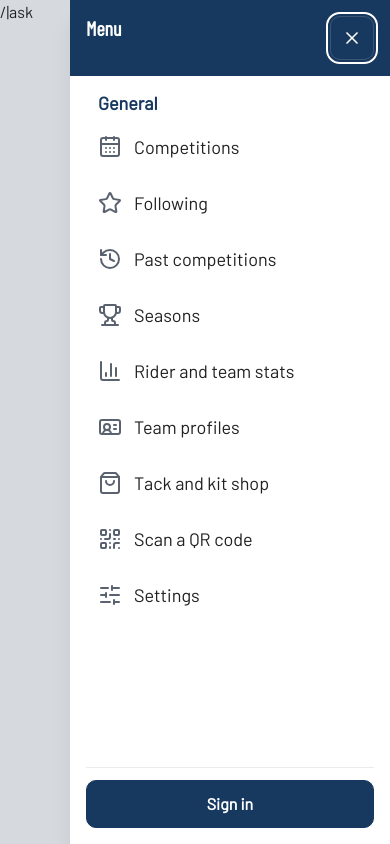
Test: NavigationDrawer: settings, QR scanner and weather › opens the QR permission scanner above Settings and rejects unsupported pairing links
Step 1. Click the button "Scan a QR code" → click(230, 538), box [86,510,374,566]
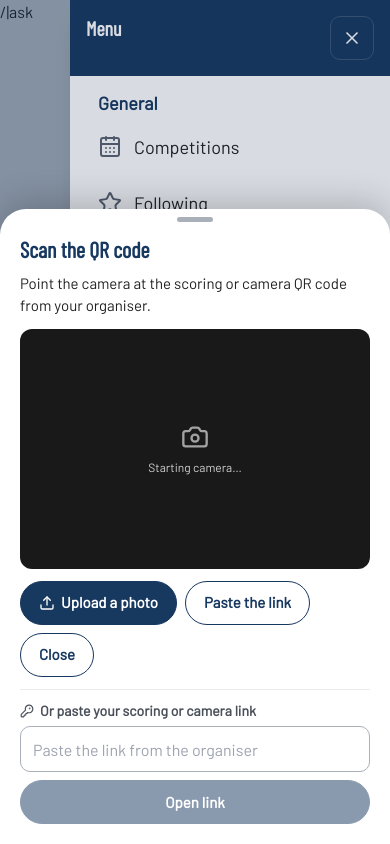
Now the dialog "Scan the QR code" is shown
Step 2. Click the button with aria-label "Close QR scanner" → click(57, 655), box [20,633,94,677]
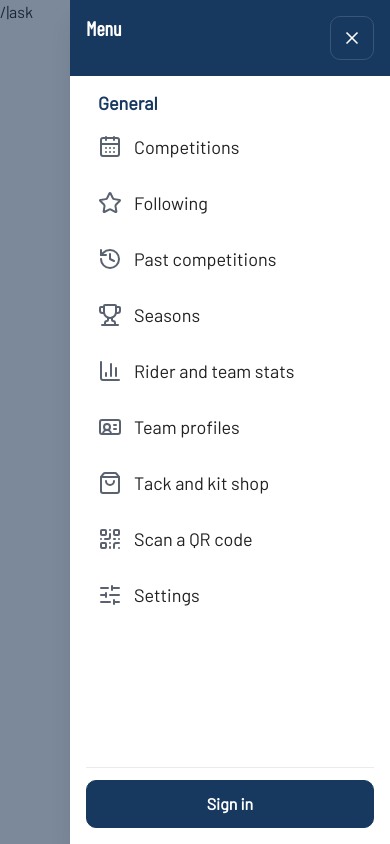
Now the heading "Scan the QR code" is gone
Step 3. Click the button "Scan a QR code" → click(230, 538), box [86,510,374,566]
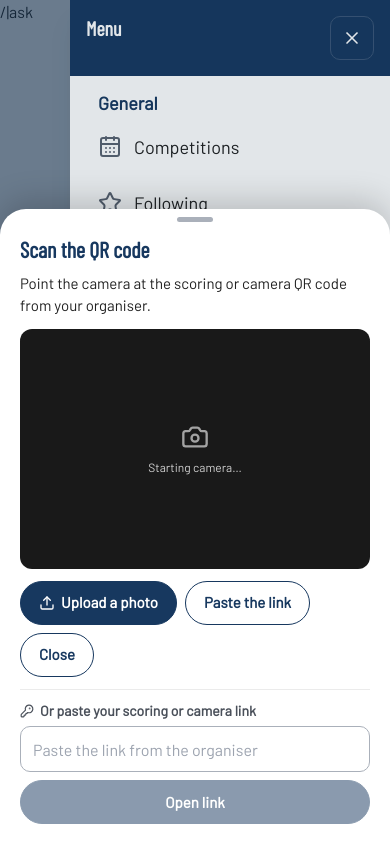
Step 4. Type "/competitions/4/broadcast?pair=pair_secret_1234567890" into the field labelled "scoring or camera link" → (195, 749), box [20,726,370,772]
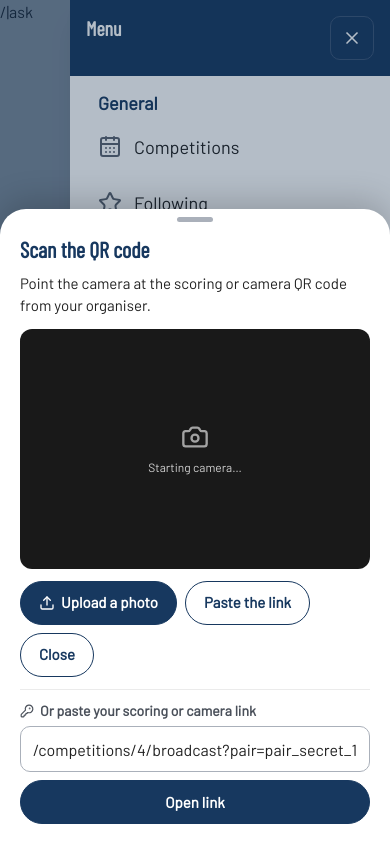
Step 5. Click the button "Open link" → click(195, 802), box [20,780,370,824]
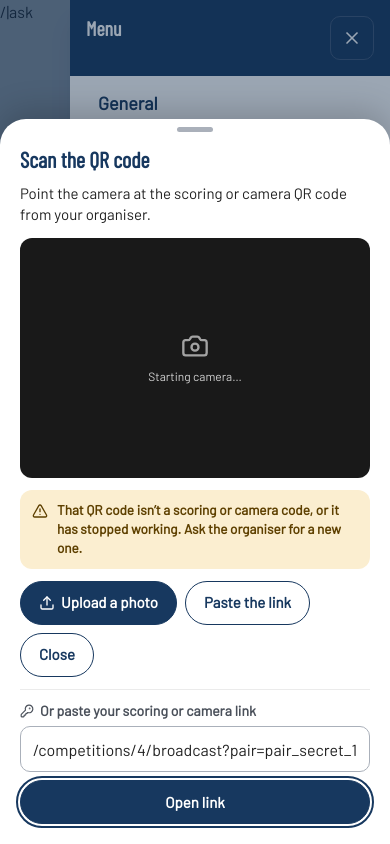
Now the message shows "That QR code isn’t a scoring or camera code", box [57,501,341,556]
